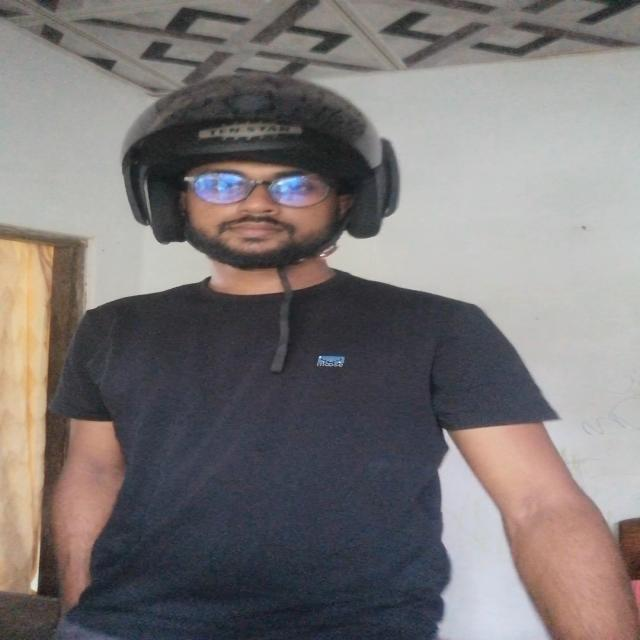Helmet_Wearer: (102, 60, 440, 301)
Person: (46, 81, 640, 640)
